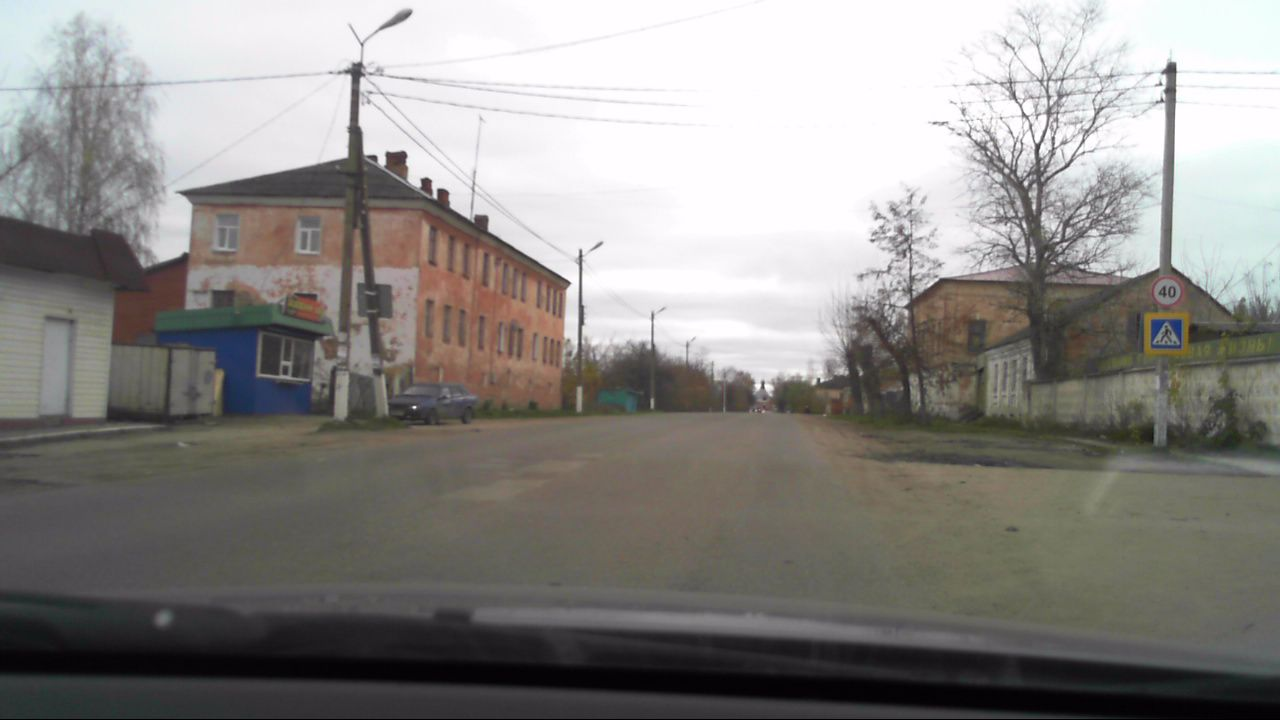speed_warning_40: (1150, 275, 1183, 309)
